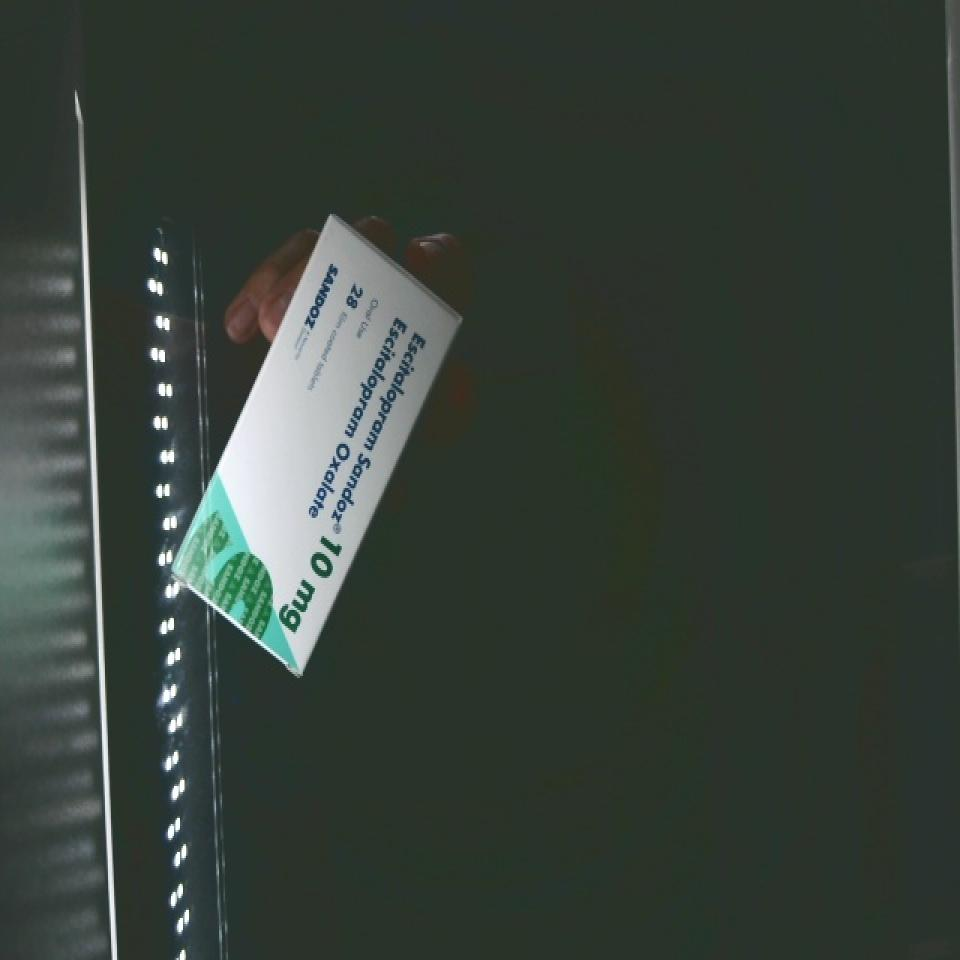medicine_box: (148, 211, 481, 673)
medicine_label_obb: (284, 288, 456, 557)
